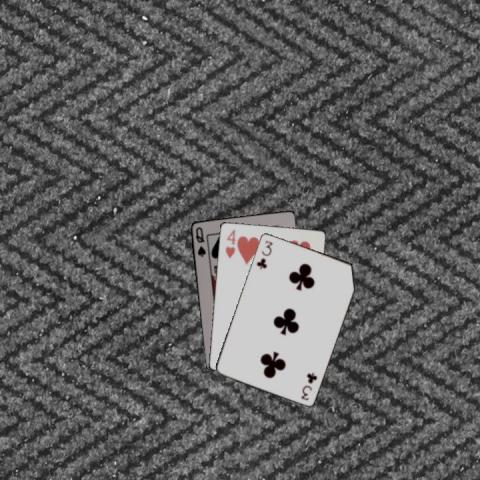3c: (253, 237, 274, 271), (298, 370, 319, 402)
4h: (222, 227, 236, 259)
Qs: (192, 224, 206, 258)
